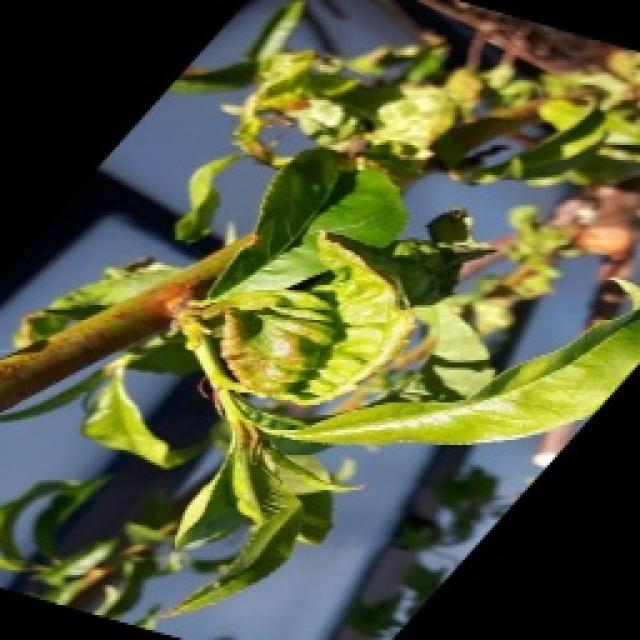peach_leaf_curl: (129, 216, 508, 640)
